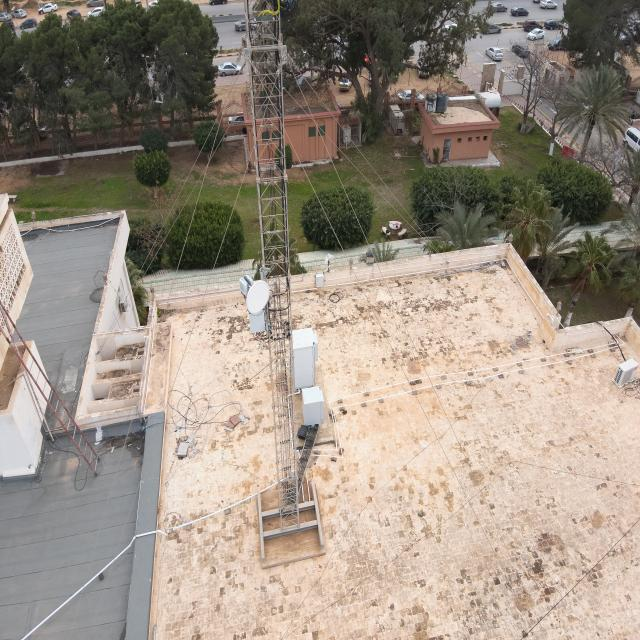microware-dish: (238, 274, 271, 315)
power-box: (248, 306, 270, 336)
